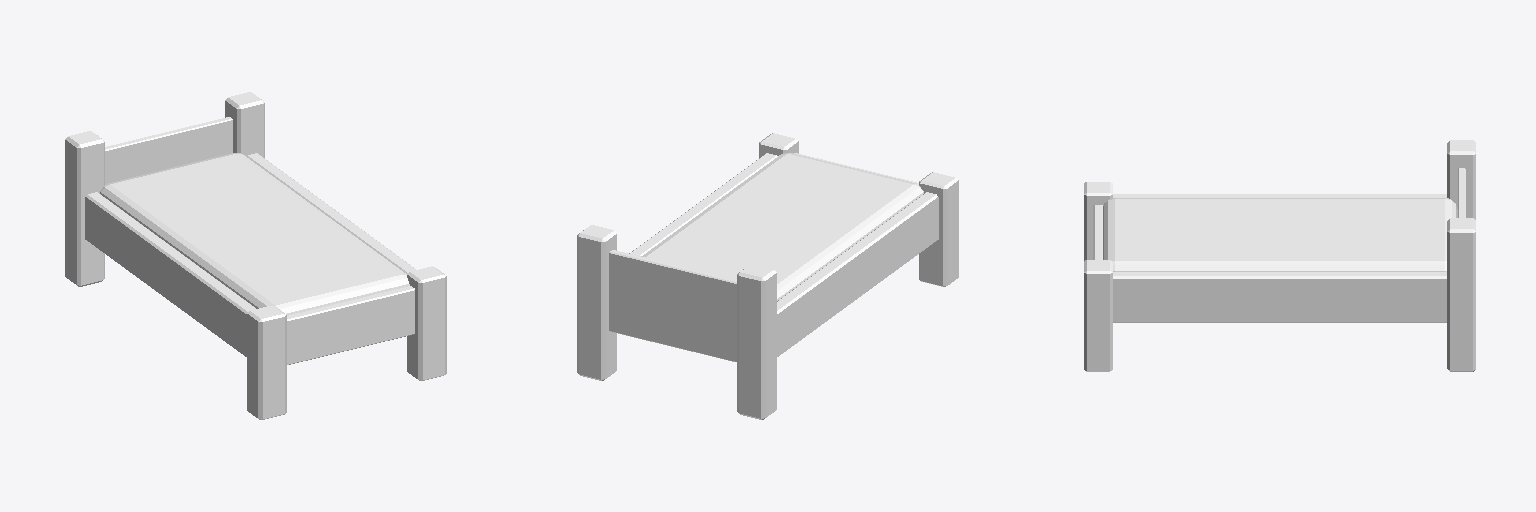
File: cama.obj
3 views of the same model, side by side, from view 1: azimuth 30°, elevation 25°; view 2: azimuth 150°, elevation 25°; view 3: azimuth 270°, elevation 25° (orthographic).
Bounding box in the file's own units: 1.32 × 0.9557 × 2.38.